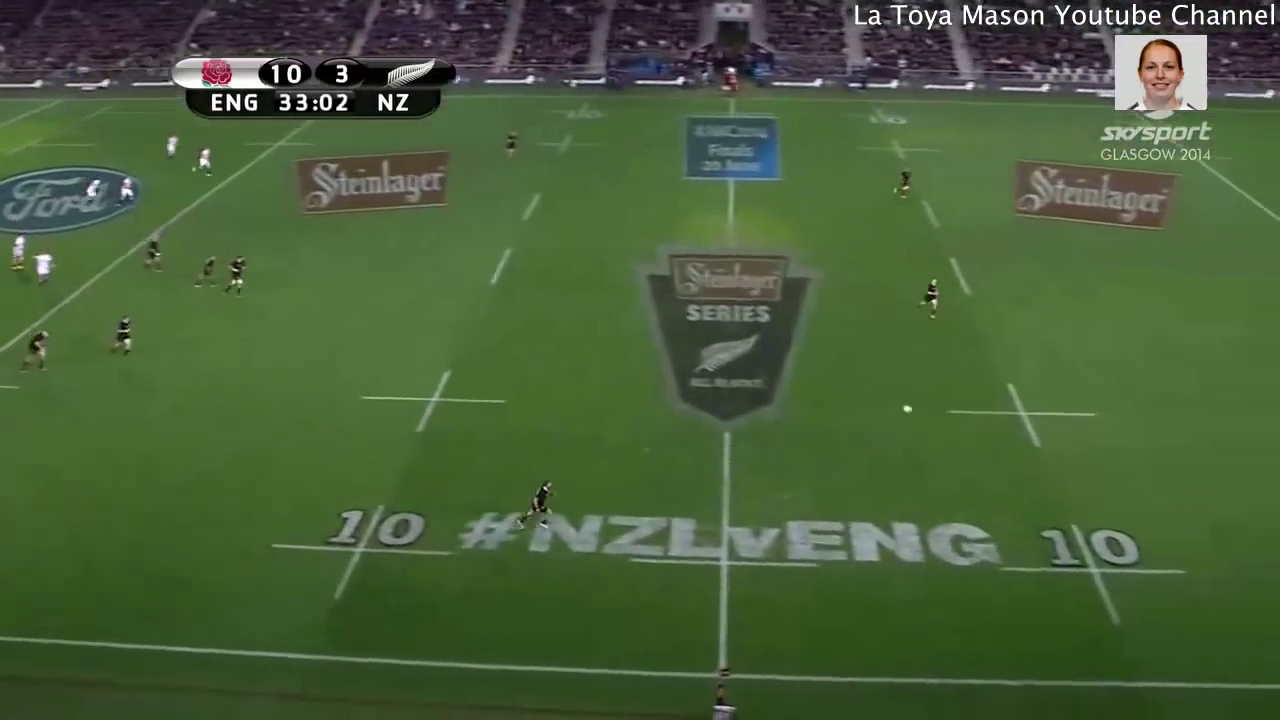10_metre: (987, 512, 1199, 624), (267, 496, 462, 609), (354, 361, 517, 439), (941, 380, 1103, 456), (844, 133, 954, 166), (519, 129, 606, 162), (838, 101, 925, 127), (541, 101, 622, 123)
ball: (897, 397, 917, 417)
player: (509, 476, 560, 540), (913, 271, 947, 325), (16, 326, 51, 375), (25, 244, 61, 288), (222, 251, 254, 300), (107, 314, 137, 356), (109, 167, 138, 209), (137, 232, 165, 275), (6, 226, 29, 275), (888, 162, 915, 203), (189, 141, 215, 181), (195, 251, 218, 293), (501, 125, 520, 165), (164, 132, 181, 160), (85, 176, 104, 200)
